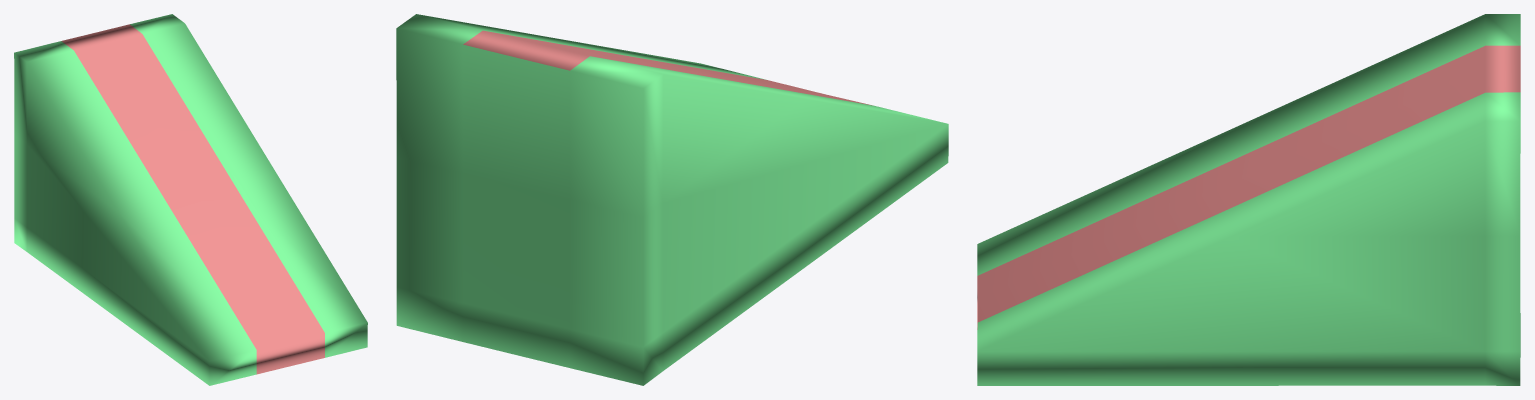
3 renders of one model, left to right at view 1: azimuth 30°, elevation 25°; view 2: azimuth 150°, elevation 25°; view 3: azimuth 270°, elevation 25°, orthographic. The views are drawn at different scales.
Parts seen in each view (by area): view 1: cube4; view 2: cube4; view 3: cube4.
Boxes of the visible parts, <box> form: cube4: <box>14,14,367,385</box>; cube4: <box>396,14,948,385</box>; cube4: <box>977,14,1520,385</box>.
Bounding box in the file's own units: 200 × 230 × 428.
